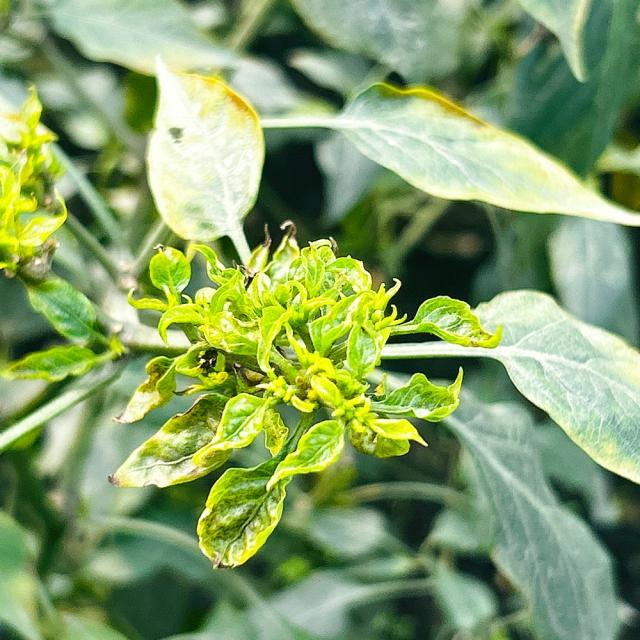Chilli_Leaf_Curl: (1, 1, 638, 636), (108, 220, 502, 570), (376, 287, 638, 485), (333, 79, 639, 227), (143, 54, 266, 256), (0, 84, 68, 278)
